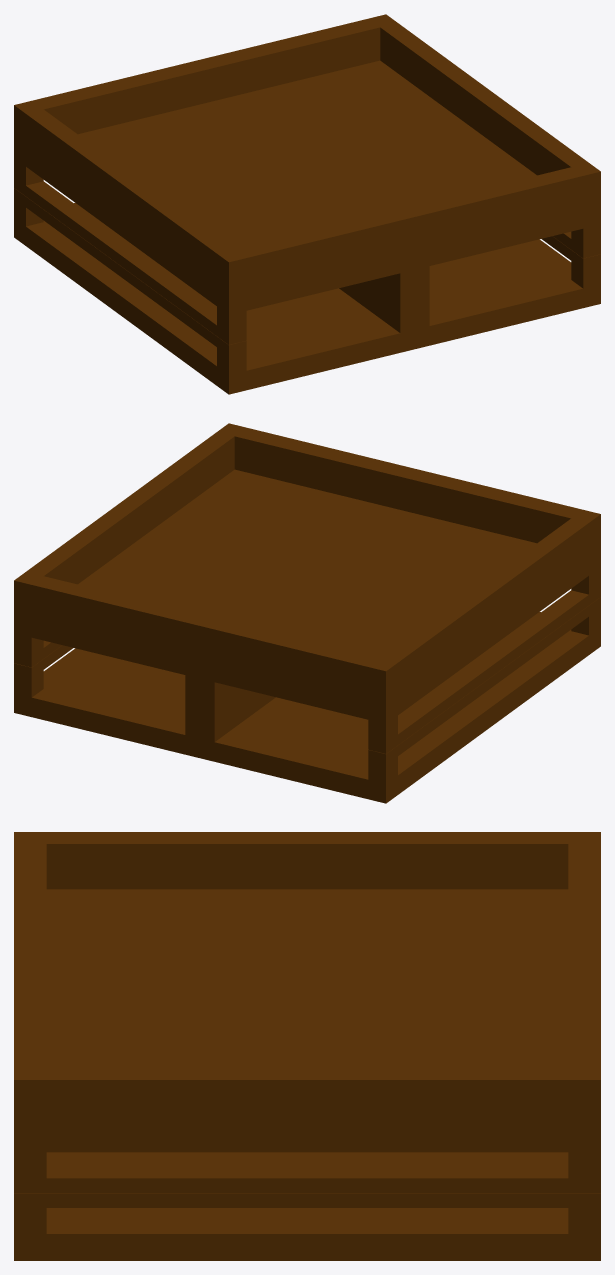
Rendered from Crate.glb.
The picture shows the model from 3 angles, top to bottom: view 1: azimuth 30°, elevation 25°; view 2: azimuth 150°, elevation 25°; view 3: azimuth 270°, elevation 25°; orthographic projection. The views are drawn at different scales.
Parts seen in each view (by area): view 1: Crate; view 2: Crate; view 3: Crate.
Part boxes in pixels (x1,y1,x2,y2): Crate: (14,14,600,394); Crate: (14,423,600,803); Crate: (14,832,600,1260).
Bounding box in the file's own units: 2.37 × 0.8045 × 2.37.
